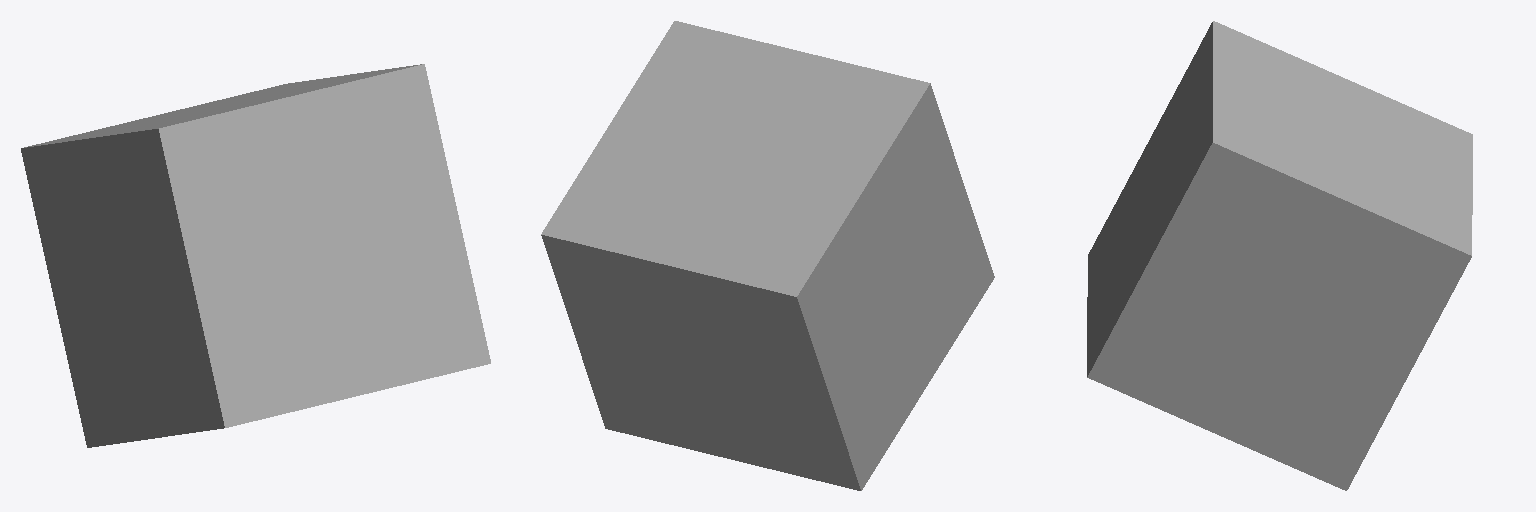
URDF robot description (ur5):
<?xml version="1.0"?>
<robot name="ur5">

  <link name="world" />

  <joint name="base_link_fix" type="fixed">
      <origin xyz="0 0 0" rpy="1.57079633 -1.57079633  3.14" />
      <parent link="world" />
      <child link="base_link" />
  </joint>

  <link name="base_link">
    <visual>
      <geometry>
        <mesh filename="meshes/ur5/visual/base.stl"/>
      </geometry>
      <material name="LightGrey">
        <color rgba="0.7 0.7 0.7 1.0"/>
      </material>
    </visual>
    <inertial>
      <mass value="4.0"/>
      <origin rpy="0 0 0" xyz="0.0 0.0 0.0"/>
      <inertia ixx="0.00443333156" ixy="0.0" ixz="0.0" iyy="0.00443333156" iyz="0.0" izz="0.0072"/>
    </inertial>
  </link>

  <joint name="shoulder_pan_joint" type="revolute">
    <parent link="base_link"/>
    <child link="shoulder_link"/>
    <origin rpy="0.0 0.0 0.0" xyz="0.0 0.0 0.089159"/>
    <axis xyz="0 0 1"/>
    <limit effort="150.0" lower="-3.14159265" upper="3.14159265" velocity="3.15"/>
    <dynamics damping="0.0" friction="0.0"/>
  </joint>

  <link name="shoulder_link">
    <visual>
      <geometry>
        <mesh filename="meshes/ur5/visual/shoulder.stl"/>
      </geometry>
      <material name="LightGrey">
        <color rgba="0.7 0.7 0.7 1.0"/>
      </material>
    </visual>
    <inertial>
      <mass value="3.7"/>
      <origin rpy="0 0 0" xyz="0.0 0.0 0.0"/>
      <inertia ixx="0.010267495893" ixy="0.0" ixz="0.0" iyy="0.010267495893" iyz="0.0" izz="0.00666"/>
    </inertial>
  </link>

  <joint name="shoulder_lift_joint" type="revolute">
    <parent link="shoulder_link"/>
    <child link="upper_arm_link"/>
    <origin rpy="0.0 1.570796325 0.0" xyz="0.0 0.13585 0.0"/>
    <axis xyz="0 1 0"/>
    <limit effort="150.0" lower="-3.14159265" upper="-0.9" velocity="3.15"/>
    <!-- <limit effort="150.0" lower="-3.14159265" upper="-0.8" velocity="3.15"/> -->
    <dynamics damping="0.0" friction="0.0"/>
  </joint>

  <link name="upper_arm_link">
    <visual>
      <geometry>
        <mesh filename="meshes/ur5/visual/upperarm.stl"/>
      </geometry>
      <material name="LightGrey">
        <color rgba="0.7 0.7 0.7 1.0"/>
      </material>
    </visual>
    <inertial>
      <mass value="8.393"/>
      <origin rpy="0 0 0" xyz="0.0 0.0 0.28"/>
      <inertia ixx="0.22689067591" ixy="0.0" ixz="0.0" iyy="0.22689067591" iyz="0.0" izz="0.0151074"/>
    </inertial>
  </link>

  <joint name="elbow_joint" type="revolute">
    <parent link="upper_arm_link"/>
    <child link="forearm_link"/>
    <origin rpy="0.0 0.0 0.0" xyz="0.0 -0.1197 0.425"/>
    <axis xyz="0 1 0"/>
    <limit effort="150.0" lower="-3.14159265" upper="3.14159265" velocity="3.15"/>
    <dynamics damping="0.0" friction="0.0"/>
  </joint>

  <link name="forearm_link">
    <visual>
      <geometry>
        <mesh filename="meshes/ur5/visual/forearm.stl"/>
      </geometry>
      <material name="LightGrey">
        <color rgba="0.7 0.7 0.7 1.0"/>
      </material>
    </visual>
    <inertial>
      <mass value="2.275"/>
      <origin rpy="0 0 0" xyz="0.0 0.0 0.25"/>
      <inertia ixx="0.049443313556" ixy="0.0" ixz="0.0" iyy="0.049443313556" iyz="0.0" izz="0.004095"/>
    </inertial>
  </link>

  <joint name="wrist_1_joint" type="revolute">
    <parent link="forearm_link"/>
    <child link="wrist_1_link"/>
    <origin rpy="0.0 1.570796325 0.0" xyz="0.0 0.0 0.39225"/>
    <axis xyz="0 1 0"/>
    <limit effort="28.0" lower="-3.14159265" upper="3.14159265" velocity="3.2"/>
    <dynamics damping="0.0" friction="0.0"/>
  </joint>

  <link name="wrist_1_link">
    <visual>
      <geometry>
        <mesh filename="meshes/ur5/visual/wrist1.stl"/>
      </geometry>
      <material name="LightGrey">
        <color rgba="0.7 0.7 0.7 1.0"/>
      </material>
    </visual>
    <inertial>
      <mass value="1.219"/>
      <origin rpy="0 0 0" xyz="0.0 0.0 0.0"/>
      <inertia ixx="0.111172755531" ixy="0.0" ixz="0.0" iyy="0.111172755531" iyz="0.0" izz="0.21942"/>
    </inertial>
  </link>

  <joint name="wrist_2_joint" type="revolute">
    <parent link="wrist_1_link"/>
    <child link="wrist_2_link"/>
    <origin rpy="0.0 0.0 0.0" xyz="0.0 0.093 0.0"/>
    <axis xyz="0 0 1"/>
    <limit effort="28.0" lower="-3.14159265" upper="3.14159265" velocity="3.2"/>
    <dynamics damping="0.0" friction="0.0"/>
  </joint>

  <link name="wrist_2_link">
    <visual>
      <geometry>
        <mesh filename="meshes/ur5/visual/wrist2.stl"/>
      </geometry>
      <material name="LightGrey">
        <color rgba="0.7 0.7 0.7 1.0"/>
      </material>
    </visual>
    <inertial>
      <mass value="1.219"/>
      <origin rpy="0 0 0" xyz="0.0 0.0 0.0"/>
      <inertia ixx="0.111172755531" ixy="0.0" ixz="0.0" iyy="0.111172755531" iyz="0.0" izz="0.21942"/>
    </inertial>
  </link>

  <joint name="wrist_3_joint" type="revolute">
    <parent link="wrist_2_link"/>
    <child link="wrist_3_link"/>
    <origin rpy="0.0 0.0 0.0" xyz="0.0 0.0 0.09465"/>
    <axis xyz="0 1 0"/>
    <limit effort="28.0" lower="-3.14159265" upper="3.14159265" velocity="3.2"/>
    <dynamics damping="0.0" friction="0.0"/>
  </joint>

  <link name="wrist_3_link">
    <visual>
      <geometry>
        <mesh filename="meshes/ur5/visual/wrist3.stl"/>
      </geometry>
      <material name="LightGrey">
        <color rgba="0.7 0.7 0.7 1.0"/>
      </material>
    </visual>
    <inertial>
      <mass value="0.1879"/>
      <origin rpy="0 0 0" xyz="0.0 0.0 0.0"/>
      <inertia ixx="0.0171364731454" ixy="0.0" ixz="0.0" iyy="0.0171364731454" iyz="0.0" izz="0.033822"/>
    </inertial>
  </link>

  <joint name="ee_fixed_joint" type="fixed">
    <parent link="wrist_3_link"/>
    <child link="ee_link"/>
    <origin rpy="0.0 0.0 1.570796325" xyz="0.0 0.0823 0.0"/>
  </joint>

  <link name="ee_link">
    <visual>
      <geometry>
        <box size="0.01 0.01 0.01"/>
      </geometry>
      <material name="LightGrey">
        <color rgba="0.7 0.7 0.7 1.0"/>
      </material>
    </visual>
  </link>

  <joint name="ee_link_to_robotiq_base_link" type="fixed">
    <parent link="ee_link"/>
    <child link="robotiq_base_link"/>
    <origin rpy="1.57079633 0.0 1.57079633" xyz="0 0 0"/>
  </joint>

  <link name="robotiq_base_link">
    <visual>
      <geometry>
        <mesh filename="meshes/ur5/visual/robotiq_85_base_link_coarse.stl"/>
      </geometry>
      <material name="LightGrey">
        <color rgba="0.7 0.7 0.7 1.0"/>
      </material>
    </visual>
    <inertial>
      <mass value="0.30915"/>
      <origin xyz="0.00021987 -2.3546e-10 0.030163" rpy="2.04599906e-02 -6.72138114e-07  1.57082885e+00"/>
      <inertia ixx="0.00030737" ixy="0.0" ixz="0.0" iyy="0.000289758" iyz="0.0" izz="0.000199102"/>
    </inertial>
  </link>


  <!-- <joint name="abstract" type="revolute">
    <parent link="robotiq_base_link"/>
    <child link="abstract_link"/>
    <origin xyz="-0.0127 0 0.0693075" rpy="0.0 0.0 3.14159265"/>
    <axis xyz="0 1 0"/>
    <limit lower="-1" upper="0.8" effort="20" velocity="3.2"/>
  </joint>

  <link name="abstract_link">
    <visual>
      <geometry>
        <box size="0.0 0.0 0.0" />
      </geometry>
      <material name="LightGrey">
        <color rgba="0.7 0.7 0.7 1.0"/>
      </material>
    </visual>
    <inertial>
      <mass value="0.0"/>
      <origin xyz="0.00602756 0 0.00669926" rpy="0.30191756 0.0 1.57079633"/>
      <inertia ixx="1.70064e-06" ixy="0.0" ixz="0.0" iyy="1.58577e-06" iyz="0.0" izz="3.69621e-07"/>
    </inertial>
    <collision>
      <geometry>
        <box size="0.0 0.0 0.0" />
      </geometry>
    </collision>
  </link> -->
  
  <joint name="base_to_lik" type="revolute">
    <parent link="robotiq_base_link"/>
    <child link="left_inner_knuckle"/>
    <origin xyz="0.0127 0 0.0693075" rpy="0 0 0"/>
    <axis xyz="0 1 0"/>
    <limit lower="-0.3" upper="0.8" effort="20" velocity="3.2"/>
    <!-- <dynamics damping="0.1" friction="0.0"/> -->
    <!-- <mimic joint="base_to_rik"/> -->
    <!-- <mimic joint="abstract"/> -->
  </joint>


  <link name="left_inner_knuckle">
    <!-- <contact>
      <friction_anchor/>
      <stiffness value="30000.0"/>
      <damping value="1000.0"/>
      <spinning_friction value="0.1"/>
      <lateral_friction value="1.0"/>
    </contact> -->
    <visual>
      <geometry>
        <mesh filename="meshes/ur5/visual/inner_knuckle_coarse.stl"/>
      </geometry>
      <material name="LightGrey">
        <color rgba="0.7 0.7 0.7 1.0"/>
      </material>
    </visual>
    <inertial>
      <mass value="0.0110931"/>
      <origin xyz="0.0170975 -3.93809e-10 0.0224918" rpy="0.0 -0.64997493  0.0"/>
      <inertia ixx="5.59353e-06" ixy="0.0" ixz="0.0" iyy="3.96549e-06" iyz="0.0" izz="1.88108e-06"/>
    </inertial>
  </link>

  <joint name="base_to_rik" type="revolute">
    <parent link="robotiq_base_link"/>
    <child link="right_inner_knuckle"/>
    <origin xyz="-0.0127 0 0.0693075" rpy="0.0 0.0 3.14159265"/>
    <axis xyz="0 1 0"/>
    <limit lower="-0.3" upper="0.8" effort="20" velocity="3.2"/>
    <!-- <dynamics damping="0.1" friction="0.0"/> -->
  </joint>
  
  <!-- <equality>
    <joint name="fingers" joint1="base_to_rik" joint2="base_to_lik" polycoef="0 1 0 0 0"/>
  </equality> -->

  <link name="right_inner_knuckle">
    <!-- <contact>
      <friction_anchor/>
      <stiffness value="30000.0"/>
      <damping value="1000.0"/>
      <spinning_friction value="0.1"/>
      <lateral_friction value="1.0"/>
    </contact> -->
    <visual>

      <geometry>
        <mesh filename="meshes/ur5/visual/inner_knuckle_coarse.stl"/>
      </geometry>
      <material name="LightGrey">
        <color rgba="0.7 0.7 0.7 1.0"/>
      </material>
    </visual>

    <inertial>
      <mass value="0.0110931"/>
      <origin xyz="0.0168606 3.93808e-10 0.02267" rpy="0.0 -0.64997493  0.0"/>
      <inertia ixx="5.59353e-06" ixy="0.0" ixz="0.0" iyy="3.96549e-06" iyz="0.0" izz="1.88108e-06"/>
    </inertial>
  </link>

  <joint name="lik_to_lif" type="fixed">
    <parent link="left_inner_knuckle"/>
    <child link="left_inner_finger"/>
    <origin xyz="0.0345853 0 0.045497" rpy="0 0 0"/>
  </joint>

  <link name="left_inner_finger">
    <visual>
      <origin xyz="0 0 0.025" rpy="0 0 0" />
      <geometry>
        <mesh filename="box.obj" scale="0.005 0.01 0.02" />
      </geometry>
      <material name="LightGrey">
        <color rgba="0.7 0.7 0.7 1.0"/>
      </material>
    </visual>
    <inertial>
      <mass value="0.00724255"/>
      <origin xyz="0.00602756 0 0.00669926" rpy="0.30191756 0.0 1.57079633"/>
      <inertia ixx="1.70064e-06" ixy="0.0" ixz="0.0" iyy="1.58577e-06" iyz="0.0" izz="3.69621e-07"/>
    </inertial>
    <collision>
      <origin xyz="0 0 0.025" rpy="0 0 0" />
      <geometry>
        <mesh filename="box.obj" scale="0.005 0.01 0.02" />
      </geometry>
    </collision>
  </link>



  <joint name="rik_to_rif" type="fixed">
    <parent link="right_inner_knuckle"/>
    <child link="right_inner_finger"/>
    <origin xyz="0.0345853 0 0.045497" rpy="0 0 0"/>
  </joint>

  <link name="right_inner_finger">
    <visual>
      <origin xyz="0 0 0.025" rpy="0 0 0" />
      <geometry>
        <mesh filename="box.obj" scale="0.005 0.01 0.02" />
      </geometry>
      <material name="LightGrey">
        <color rgba="0.7 0.7 0.7 1.0"/>
      </material>
    </visual>
    <inertial>
      <mass value="0.00724255"/>
      <origin xyz="0.00602756 0 0.00669926" rpy="0.30191756 0.0 1.57079633"/>
      <inertia ixx="1.70064e-06" ixy="0.0" ixz="0.0" iyy="1.58577e-06" iyz="0.0" izz="3.69621e-07"/>
    </inertial>
    <collision>
      <origin xyz="0 0 0.025" rpy="0 0 0" />
      <geometry>
        <mesh filename="box.obj" scale="0.005 0.01 0.02" />
      </geometry>
    </collision>
  </link>

  <!-- 
  <transmission name="shoulder_pan_trans">
    <type>transmission_interface/SimpleTransmission</type>
    <joint name="shoulder_pan_joint">
      <hardwareInterface>PositionJointInterface</hardwareInterface>
    </joint>
    <actuator name="shoulder_pan_motor">
      <mechanicalReduction>1</mechanicalReduction>
    </actuator>
  </transmission>
  <transmission name="shoulder_lift_trans">
    <type>transmission_interface/SimpleTransmission</type>
    <joint name="shoulder_lift_joint">
      <hardwareInterface>PositionJointInterface</hardwareInterface>
    </joint>
    <actuator name="shoulder_lift_motor">
      <mechanicalReduction>1</mechanicalReduction>
    </actuator>
  </transmission>
  <transmission name="elbow_trans">
    <type>transmission_interface/SimpleTransmission</type>
    <joint name="elbow_joint">
      <hardwareInterface>PositionJointInterface</hardwareInterface>
    </joint>
    <actuator name="elbow_motor">
      <mechanicalReduction>1</mechanicalReduction>
    </actuator>
  </transmission>
  <transmission name="wrist_1_trans">
    <type>transmission_interface/SimpleTransmission</type>
    <joint name="wrist_1_joint">
      <hardwareInterface>PositionJointInterface</hardwareInterface>
    </joint>
    <actuator name="wrist_1_motor">
      <mechanicalReduction>1</mechanicalReduction>
    </actuator>
  </transmission>
  <transmission name="wrist_2_trans">
    <type>transmission_interface/SimpleTransmission</type>
    <joint name="wrist_2_joint">
      <hardwareInterface>PositionJointInterface</hardwareInterface>
    </joint>
    <actuator name="wrist_2_motor">
      <mechanicalReduction>1</mechanicalReduction>
    </actuator>
  </transmission>
  <transmission name="wrist_3_trans">
    <type>transmission_interface/SimpleTransmission</type>
    <joint name="wrist_3_joint">
      <hardwareInterface>PositionJointInterface</hardwareInterface>
    </joint>
    <actuator name="wrist_3_motor">
      <mechanicalReduction>1</mechanicalReduction>
    </actuator>
  </transmission> -->
</robot>

--- What the picture shows (computed from the rendered views, not written in the file) ---
The picture shows the robot from 3 angles, left to right: view 1: azimuth 30°, elevation 25°; view 2: azimuth 150°, elevation 25°; view 3: azimuth 270°, elevation 25°; orthographic projection.
Model ur5 with 14 links and 13 joints (8 revolute, 5 fixed), rooted at world, posed all joints at 0 but 1 set to mid-range because 0 is outside their limits (shoulder_lift_joint = -2.02).
Links seen in each view (by area): view 1: ee_link; view 2: ee_link; view 3: ee_link.
Boxes of the visible links, x1=… form: ee_link: x1=21, y1=64, x2=490, y2=447; ee_link: x1=541, y1=21, x2=994, y2=490; ee_link: x1=1087, y1=21, x2=1472, y2=490.
Size in the robot's own frame: 0.01 by 0.0134 by 0.0134 metres.
Meshes: 10 distinct files referenced, 0 mesh visuals loaded (none loaded); not drawn: 12 (reference not matched to a file when rendering).